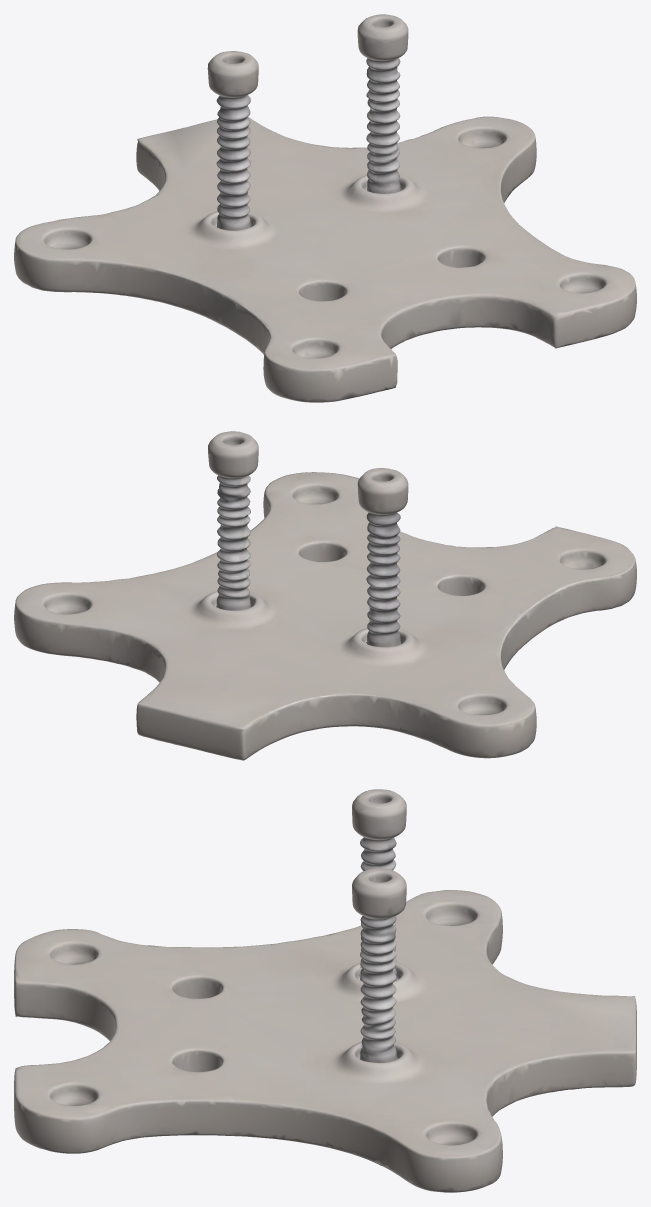
The model's file is fracture-plate.glb.
3 views of the same model, one above another, from view 1: azimuth 30°, elevation 25°; view 2: azimuth 150°, elevation 25°; view 3: azimuth 270°, elevation 25° (orthographic). The views are drawn at different scales.
Parts seen in each view (by area): view 1: model; view 2: model; view 3: model.
Part boxes in pixels (bbox=[...]): model: bbox=[14, 14, 636, 402]; model: bbox=[14, 431, 636, 760]; model: bbox=[14, 789, 636, 1192].
Size of the model in its own units: 1.9 by 0.7319 by 1.86.
Materials: 1 (1 with a texture image).
